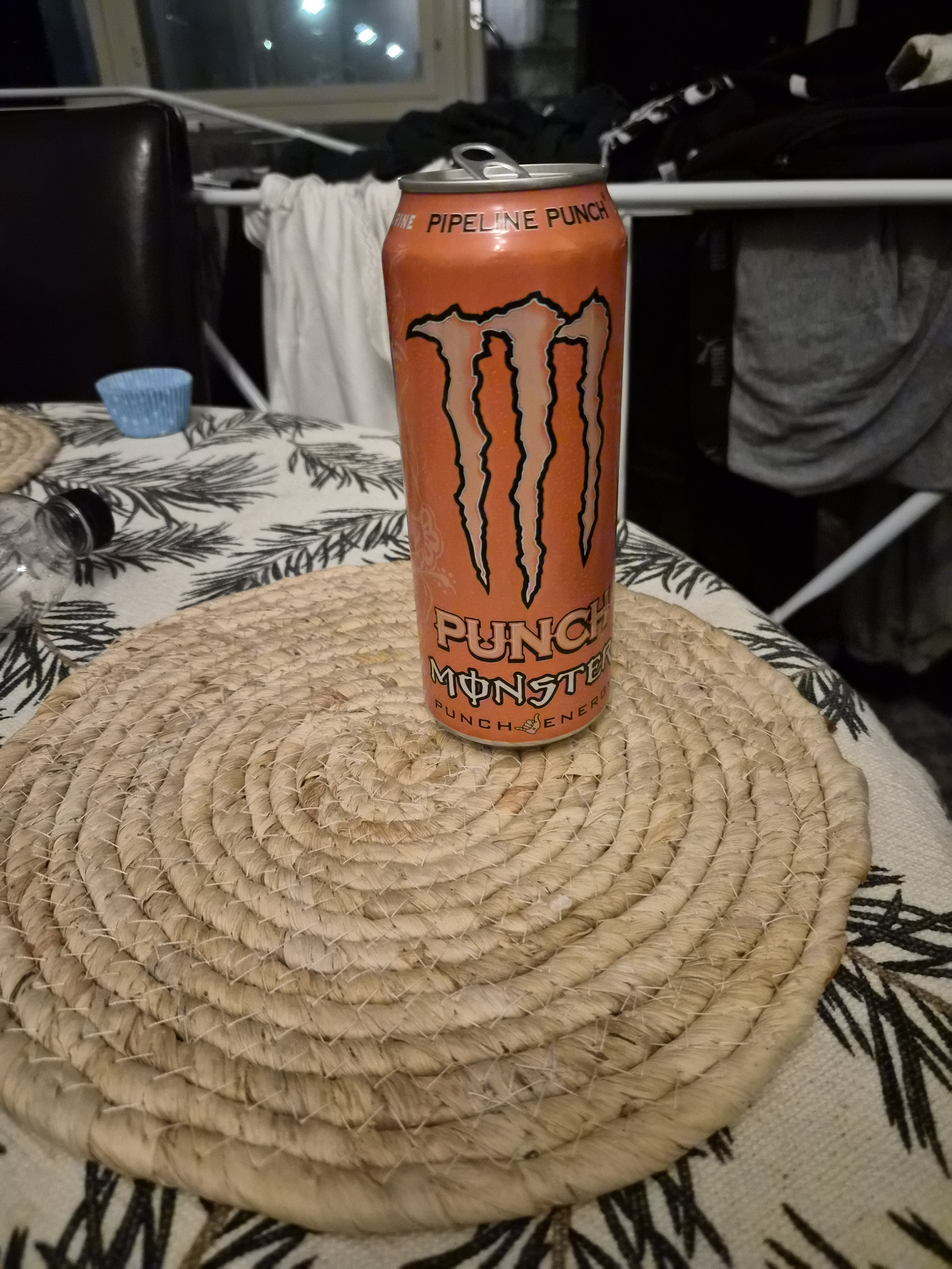Pantburk: (370, 139, 628, 757)
